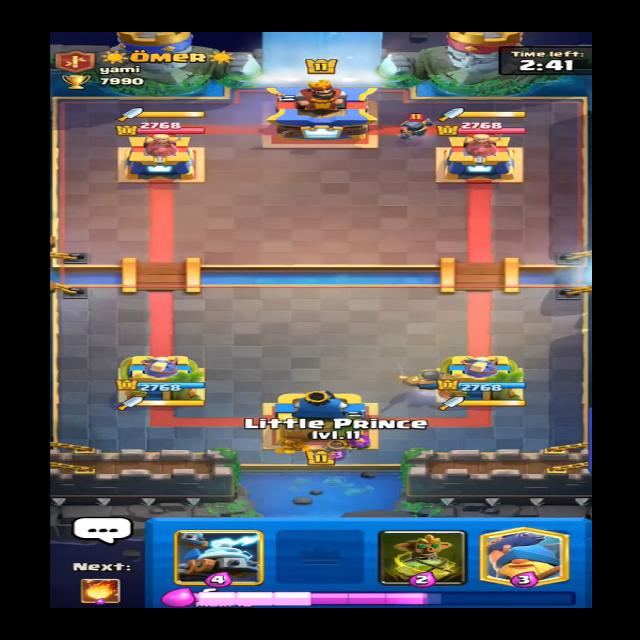mini-pekka: (392, 111, 438, 138)
